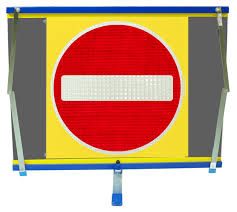No entry: (52, 22, 183, 154)
